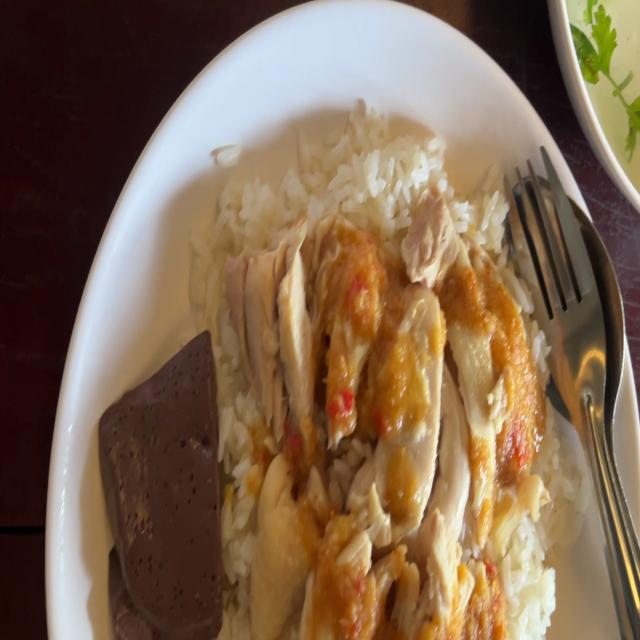boiled_chicken: (235, 222, 533, 640)
boiled_chicken_blood_jelly: (97, 335, 221, 640)
chicken_rice: (82, 125, 575, 640)
